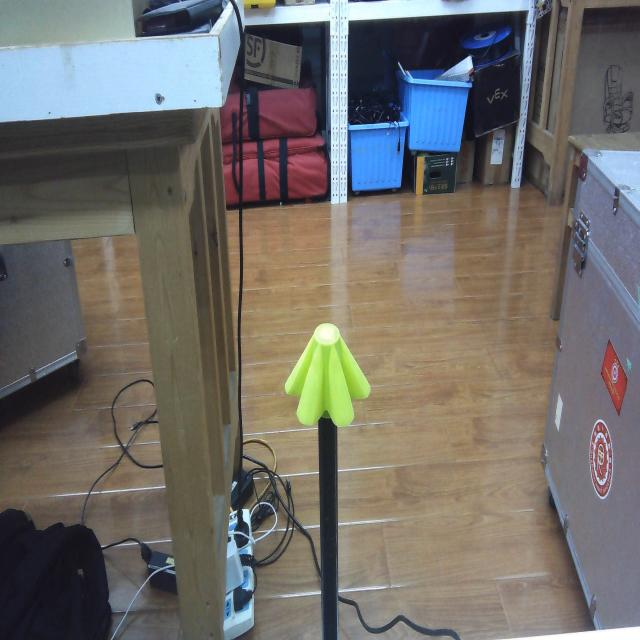Yellow-Stake-Head: (284, 323, 372, 428)
